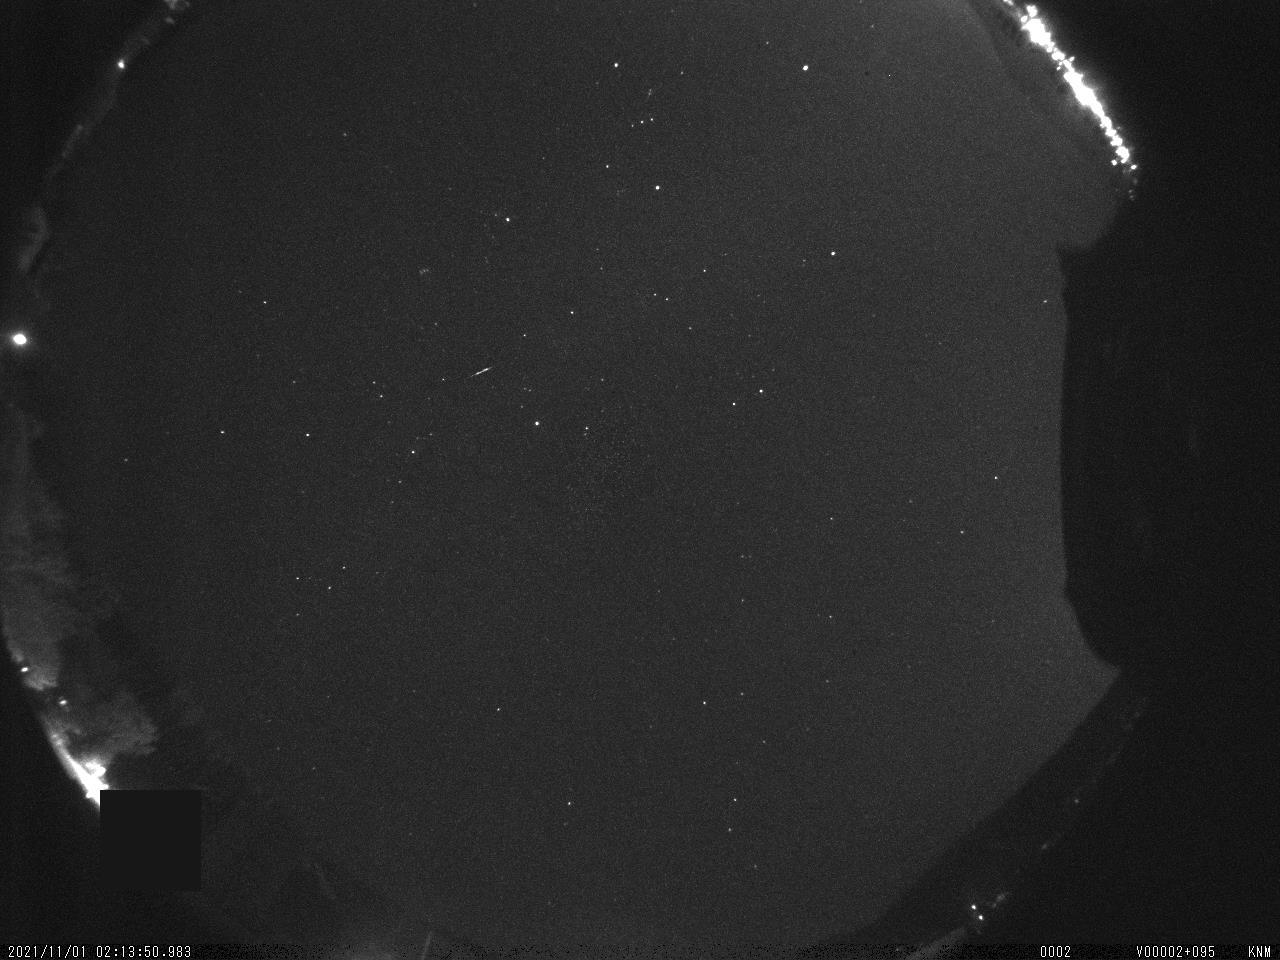meteor: (453, 360, 517, 400)
